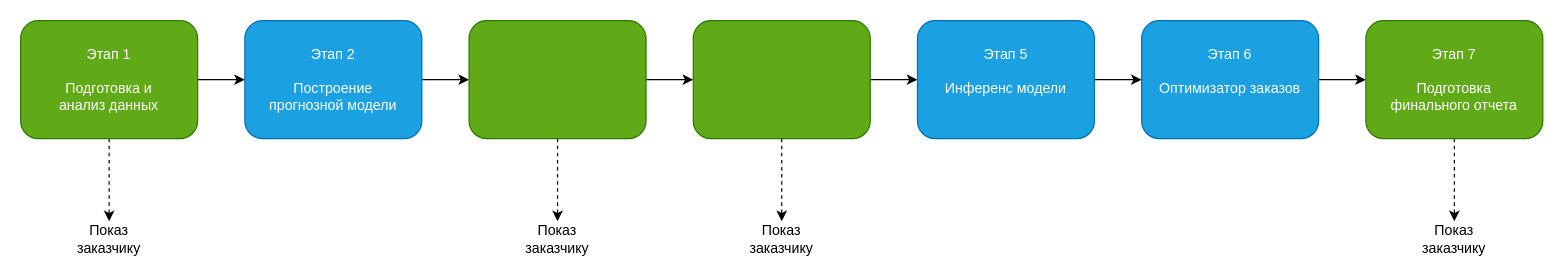
Image size: 1563x277. Some labels were removed from this diagram. The shapes that lost their labels are listed below. From the top down, each one's centre as x and y in pixels, then its label:
At pixel 557 79: "Этап 3 Интерпретация и согласование".
At pixel 781 79: "Этап 4 Интеграция бизнес-правил".
